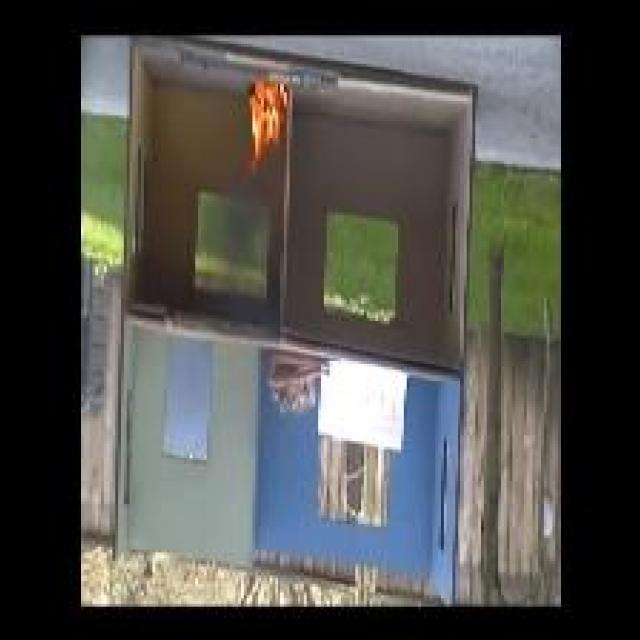Fire: (248, 80, 283, 168)
